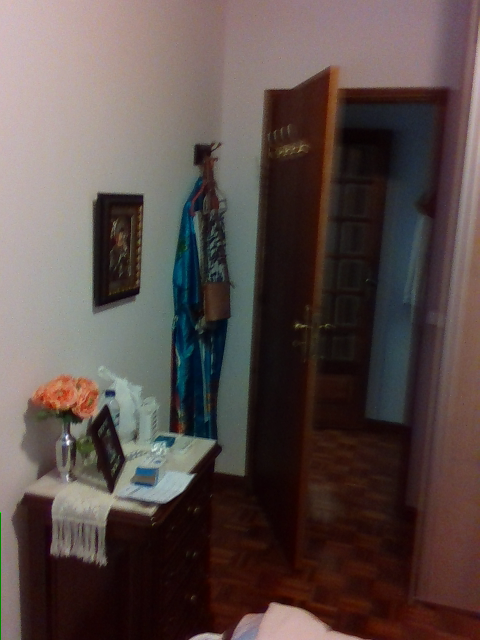semi: (242, 64, 450, 577)
